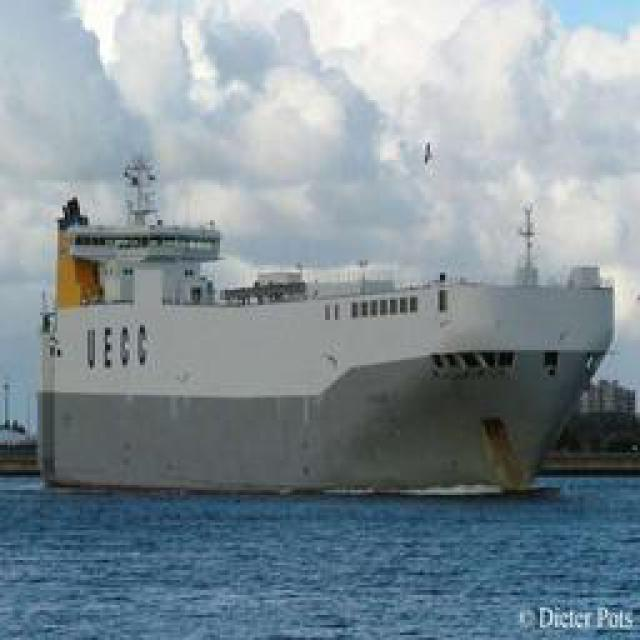Ship: (33, 170, 618, 485)
